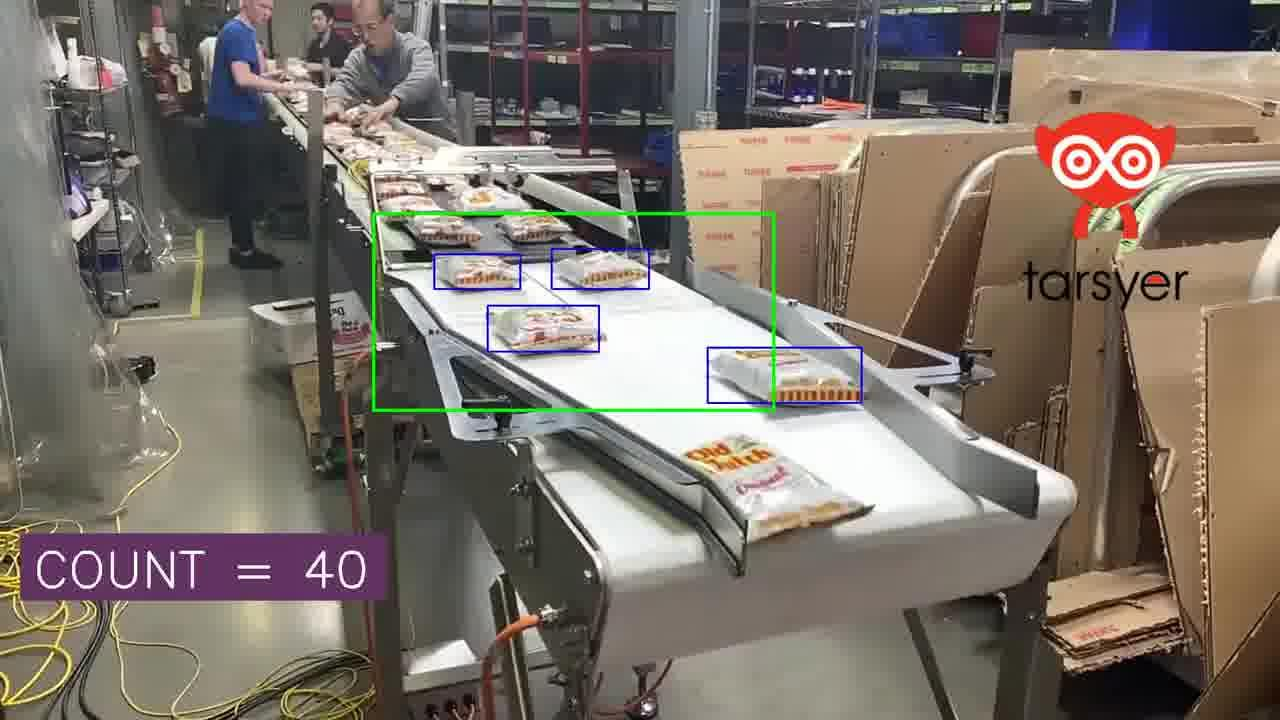Snack: (684, 435, 871, 542), (494, 307, 602, 351), (776, 348, 860, 403), (556, 251, 648, 288), (434, 255, 519, 288), (405, 215, 482, 246), (499, 214, 571, 243), (454, 185, 529, 211), (376, 178, 429, 206), (378, 195, 443, 212), (340, 140, 382, 162), (384, 144, 434, 162), (339, 103, 372, 125), (357, 121, 395, 139), (324, 123, 355, 144), (379, 130, 417, 146), (425, 175, 462, 189)
